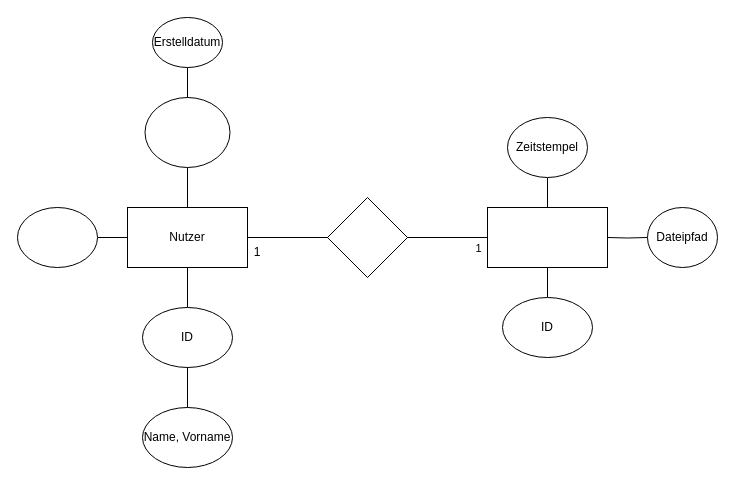
Some shapes in this 735 by 485 pixel diagram are drawn without their labels. Here are the shapes that lost their labels. From the top down, the centre of each, then its label:
[187,132]: Geburtsdatum
[57,237]: Klasse
[367,237]: hat
[547,237]: Trainierte Ki-Modelle
